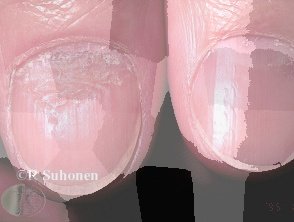Nail_psoriasis: (8, 7, 147, 134), (225, 10, 294, 81)
